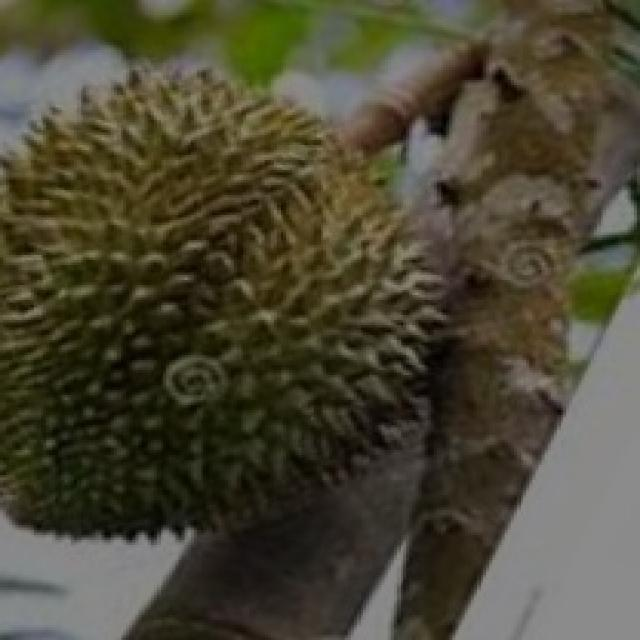fruit: (0, 193, 357, 595)
